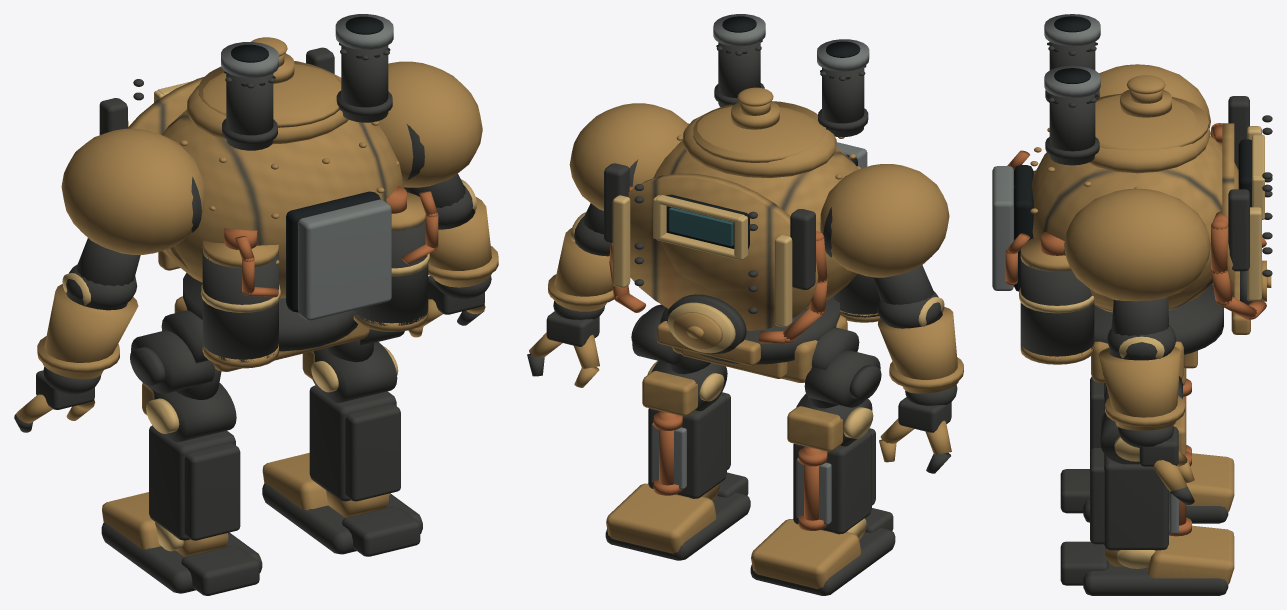
3 renders of one model, left to right at view 1: azimuth 30°, elevation 25°; view 2: azimuth 150°, elevation 25°; view 3: azimuth 270°, elevation 25°, orthographic. The views are drawn at different scales.
Bounding box in the file's own units: 3.62 × 3.95 × 2.03.
1 material, 1 textured.
